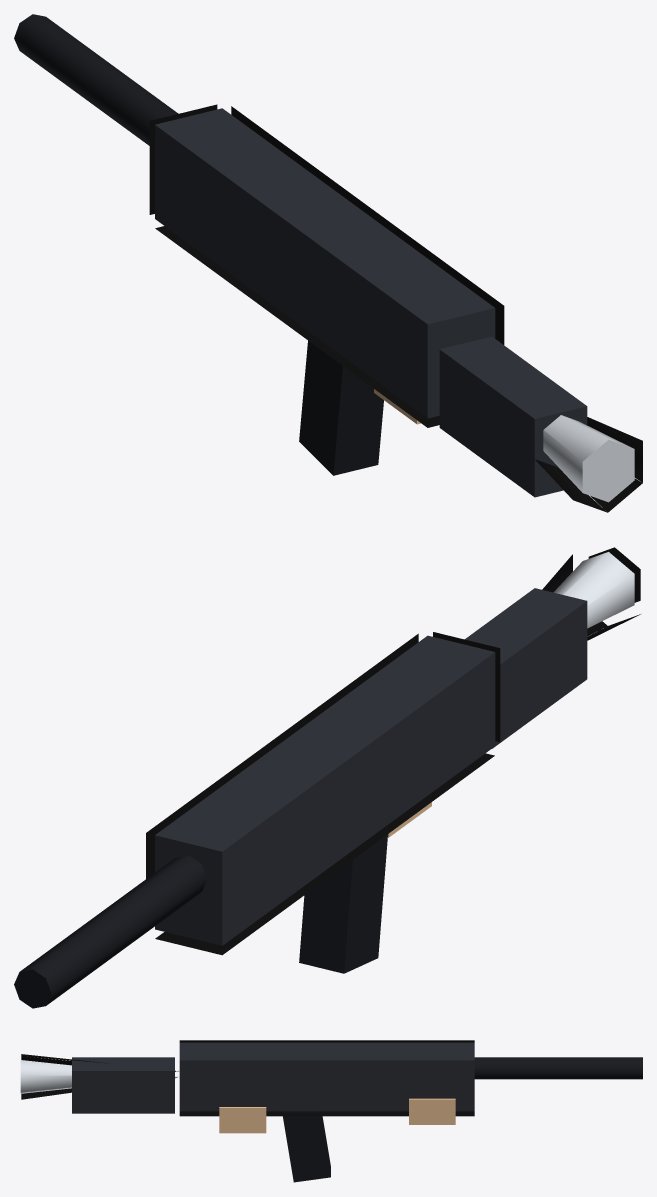
The model's file is weapon_sniper.glb.
The picture shows the model from 3 angles, top to bottom: view 1: azimuth 30°, elevation 25°; view 2: azimuth 150°, elevation 25°; view 3: azimuth 270°, elevation 25°; orthographic projection. The views are drawn at different scales.
Visible parts, largest first — view 1: weapon_sniper__part_2, weapon_sniper__part_6, weapon_sniper__part_5, weapon_sniper__part_4, weapon_sniper__outline_3, weapon_sniper__part_12, weapon_sniper__outline_13; view 2: weapon_sniper__part_2, weapon_sniper__part_6, weapon_sniper__part_4, weapon_sniper__part_5, weapon_sniper__outline_3, weapon_sniper__part_12, weapon_sniper__outline_13; view 3: weapon_sniper__part_2, weapon_sniper__part_6, weapon_sniper__part_4, weapon_sniper__part_5, weapon_sniper__outline_3, weapon_sniper__part_12, weapon_sniper__part_8, weapon_sniper__part_7, weapon_sniper__outline_13.
Part boxes in pixels (x1,y1,x2,y2): weapon_sniper__part_2: (155, 108, 495, 418); weapon_sniper__part_6: (439, 336, 587, 497); weapon_sniper__part_5: (299, 340, 383, 475); weapon_sniper__part_4: (14, 14, 178, 145); weapon_sniper__outline_3: (149, 104, 504, 427); weapon_sniper__part_12: (543, 415, 634, 502); weapon_sniper__outline_13: (533, 417, 642, 512); weapon_sniper__part_2: (155, 635, 495, 945); weapon_sniper__part_6: (465, 588, 587, 748); weapon_sniper__part_4: (14, 855, 207, 1008); weapon_sniper__part_5: (299, 834, 387, 973); weapon_sniper__outline_3: (146, 632, 500, 955); weapon_sniper__part_12: (553, 552, 634, 628); weapon_sniper__outline_13: (542, 547, 640, 640); weapon_sniper__part_2: (179, 1042, 474, 1111); weapon_sniper__part_6: (72, 1057, 174, 1113); weapon_sniper__part_4: (474, 1057, 642, 1079); weapon_sniper__part_5: (282, 1111, 330, 1182); weapon_sniper__outline_3: (179, 1040, 474, 1116); weapon_sniper__part_12: (20, 1060, 178, 1093); weapon_sniper__part_8: (219, 1107, 266, 1133); weapon_sniper__part_7: (409, 1098, 455, 1124); weapon_sniper__outline_13: (21, 1054, 178, 1099).
Size of the model in its own units: 0.114 by 0.307 by 1.34.
